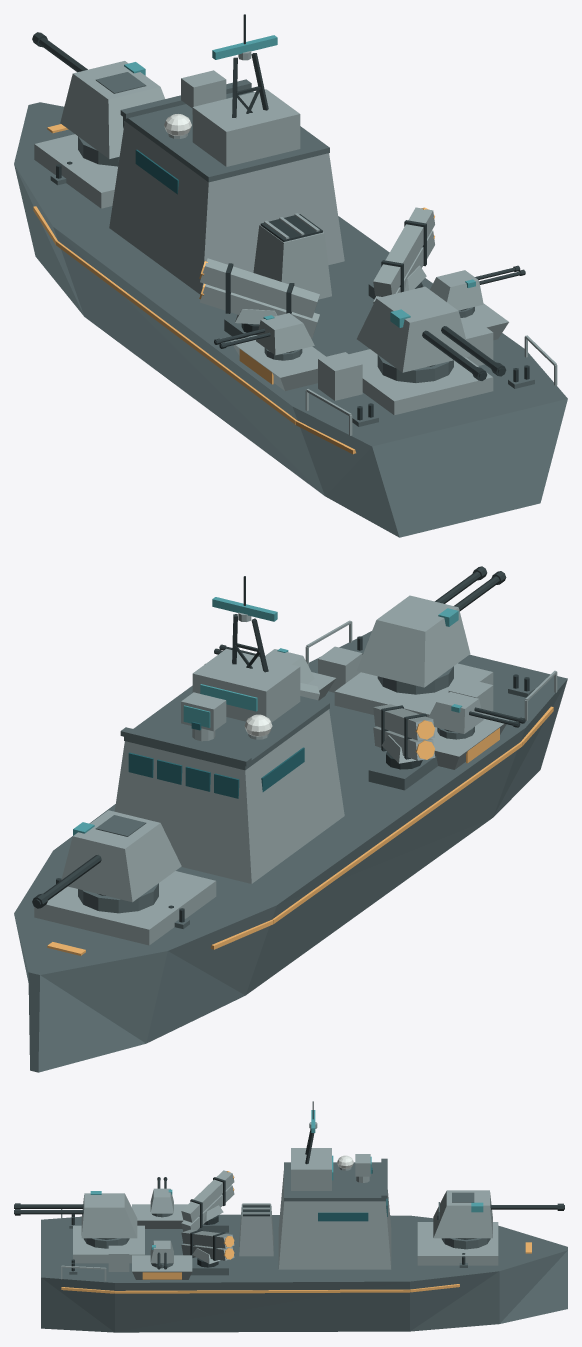
Rendered from ESC_STK_T3.fbx.
The picture shows the model from 3 angles, top to bottom: view 1: azimuth 30°, elevation 25°; view 2: azimuth 150°, elevation 25°; view 3: azimuth 270°, elevation 25°; orthographic projection. The views are drawn at different scales.
Parts seen in each view (by area): view 1: ContinuousHull.003, Deckhouse.003, FireDirectionCabin, AftGunCupola.003, PrimaryGunCupola.003, Roof.003, ArmouredAftTurretDeck, FunnelEnclosure.003, ArmouredForeTurretDeck, MissileBankPortTube2.001, MissileBankStarboardTube2.001, BatteryDeckSponson (+14 smaller); view 2: ContinuousHull.003, Deckhouse.003, AftGunCupola.003, PrimaryGunCupola.003, ArmouredForeTurretDeck, Roof.003, FireDirectionCabin, ArmouredAftTurretDeck, RoleHullStripe-1_1.003, BatteryDeckSponson, BroadsideGun_-1Cupola, BridgeBrow.003 (+14 smaller); view 3: ContinuousHull.003, Deckhouse.003, PrimaryGunCupola.003, AftGunCupola.003, Roof.003, ArmouredForeTurretDeck, FireDirectionCabin, FunnelEnclosure.003, ArmouredAftTurretDeck, RoleHullStripe1_1.003, BatteryDeckSponson.001, MissileBankPortTube2.001 (+17 smaller).
Part boxes in pixels (left/top/right/bottom): ContinuousHull.003: left=14, top=102, right=567, bottom=537; Deckhouse.003: left=109, top=121, right=344, bottom=294; FireDirectionCabin: left=192, top=89, right=300, bottom=166; AftGunCupola.003: left=357, top=286, right=470, bottom=372; PrimaryGunCupola.003: left=60, top=61, right=164, bottom=158; Roof.003: left=124, top=91, right=329, bottom=182; ArmouredAftTurretDeck: left=349, top=349, right=493, bottom=415; FunnelEnclosure.003: left=253, top=224, right=331, bottom=299; ArmouredForeTurretDeck: left=34, top=134, right=117, bottom=208; MissileBankPortTube2.001: left=200, top=258, right=319, bottom=318; MissileBankStarboardTube2.001: left=373, top=207, right=434, bottom=296; BatteryDeckSponson: left=230, top=335, right=325, bottom=390; ContinuousHull.003: left=14, top=631, right=567, bottom=1072; Deckhouse.003: left=114, top=709, right=344, bottom=883; AftGunCupola.003: left=356, top=595, right=470, bottom=687; PrimaryGunCupola.003: left=61, top=810, right=181, bottom=902; ArmouredForeTurretDeck: left=34, top=871, right=216, bottom=945; Roof.003: left=124, top=685, right=329, bottom=770; FireDirectionCabin: left=192, top=648, right=300, bottom=722; ArmouredAftTurretDeck: left=334, top=663, right=493, bottom=717; RoleHullStripe-1_1.003: left=272, top=742, right=522, bottom=923; BatteryDeckSponson: left=431, top=713, right=508, bottom=769; BroadsideGun_-1Cupola: left=428, top=692, right=483, bottom=733; BridgeBrow.003: left=120, top=727, right=251, bottom=766; ContinuousHull.003: left=41, top=1214, right=567, bottom=1332; Deckhouse.003: left=278, top=1171, right=391, bottom=1269; PrimaryGunCupola.003: left=433, top=1190, right=492, bottom=1238; AftGunCupola.003: left=81, top=1193, right=137, bottom=1238; Roof.003: left=284, top=1162, right=385, bottom=1201; ArmouredForeTurretDeck: left=417, top=1222, right=498, bottom=1265; FireDirectionCabin: left=291, top=1148, right=331, bottom=1190; FunnelEnclosure.003: left=239, top=1204, right=273, bottom=1256; ArmouredAftTurretDeck: left=73, top=1225, right=144, bottom=1263; RoleHullStripe1_1.003: left=115, top=1289, right=409, bottom=1293; BatteryDeckSponson.001: left=132, top=1255, right=192, bottom=1279; MissileBankPortTube2.001: left=181, top=1170, right=234, bottom=1222.
Bounding box in the file's own units: 363 × 389 × 946.
